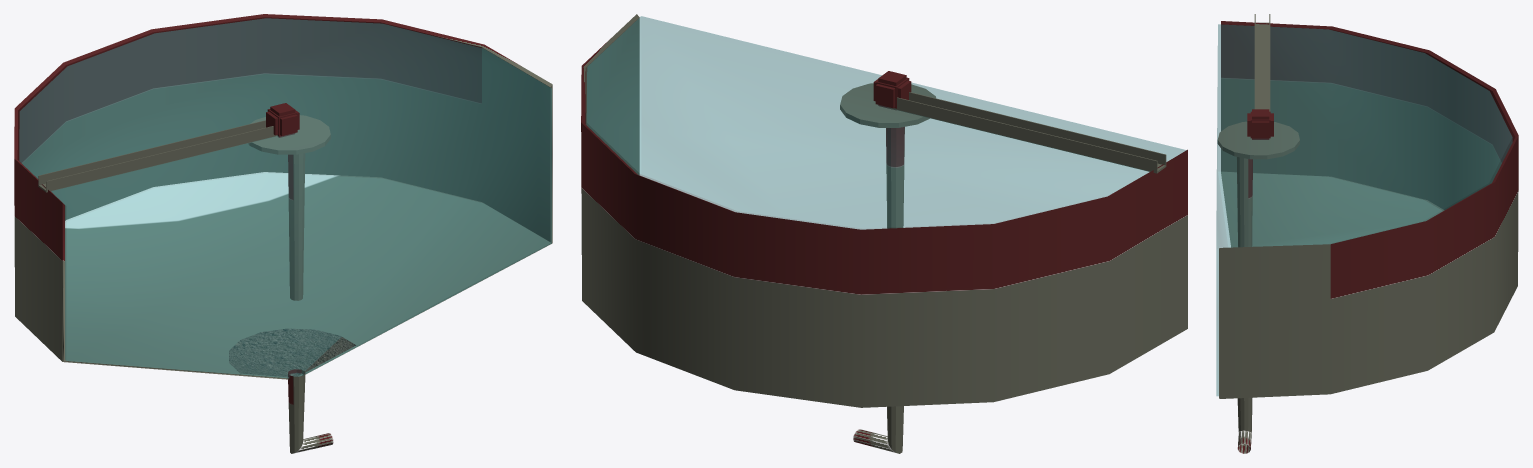
The model's file is tank in.fbx.
3 renders of one model, left to right at view 1: azimuth 30°, elevation 25°; view 2: azimuth 150°, elevation 25°; view 3: azimuth 270°, elevation 25°, orthographic. The views are drawn at different scales.
Parts seen in each view (by area): view 1: tank_in; view 2: tank_in; view 3: tank_in.
Part boxes in pixels (<box>): tank_in: <box>14,14,552,453</box>; tank_in: <box>581,14,1187,453</box>; tank_in: <box>1216,14,1518,453</box>.
Bounding box in the file's own units: 3.91 × 2.59 × 2.2.
